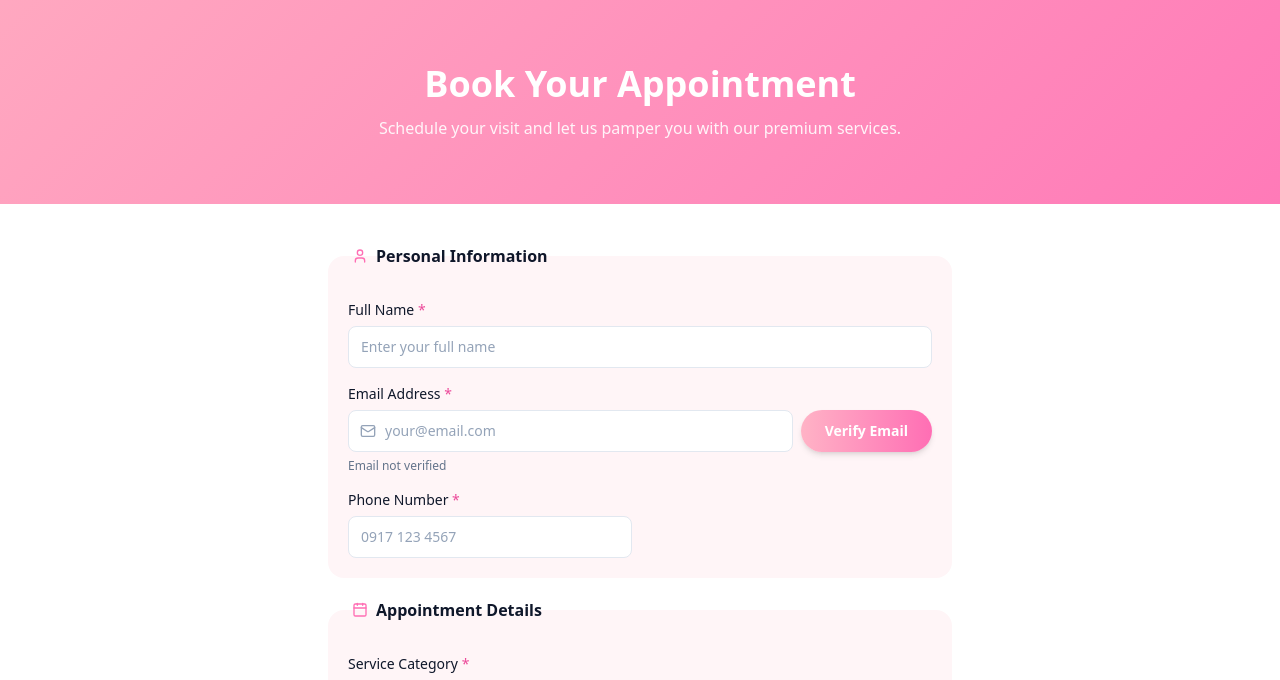
Scenario: requesting and entering the code › too many attempts shows "Verification failed"
Type "jane@example.com" into the field labelled "Email Address *" at (570, 431), box [348,410,793,452]
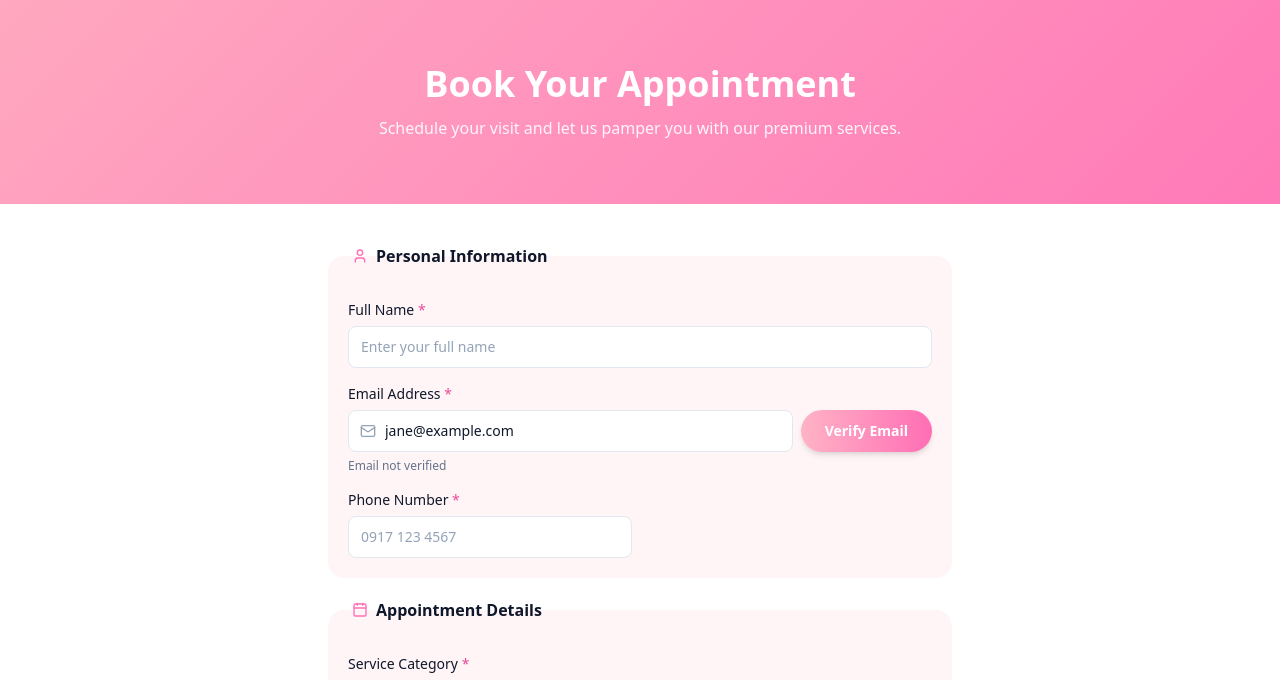
Click the button "Verify Email" at (866, 431), box [801,410,932,452]
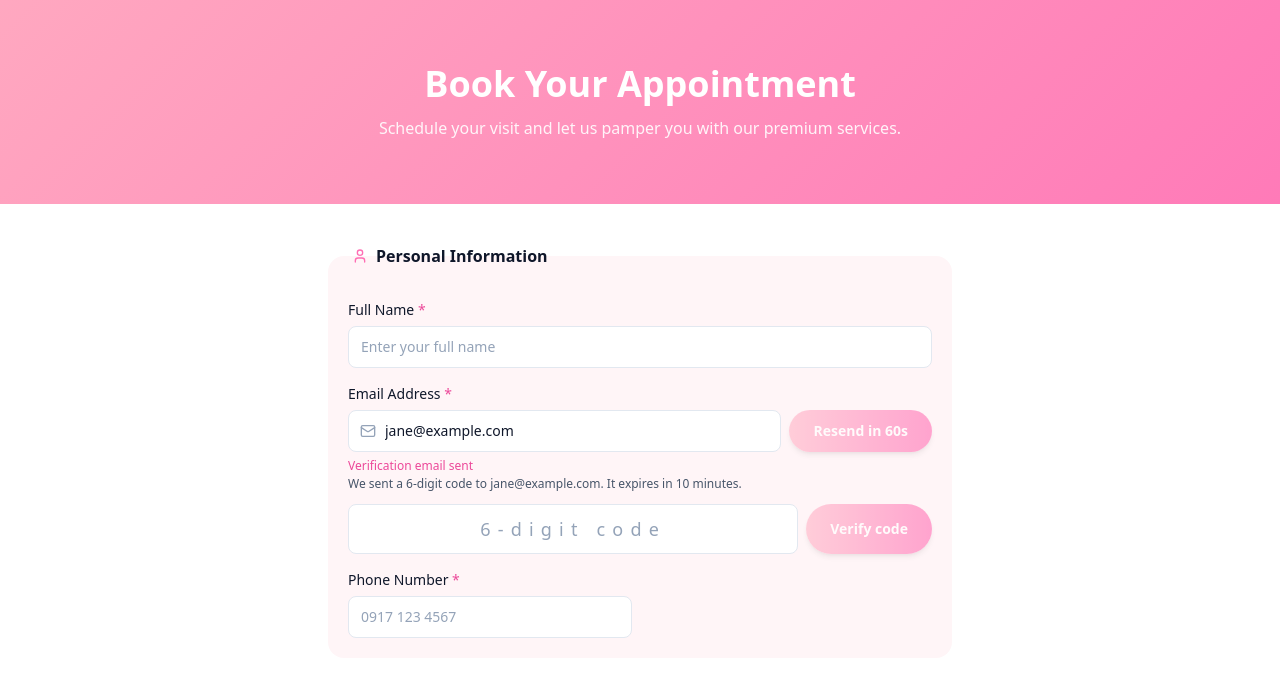
Type "123456" into the field named "6-digit verification code" at (573, 529), box [348,504,798,554]
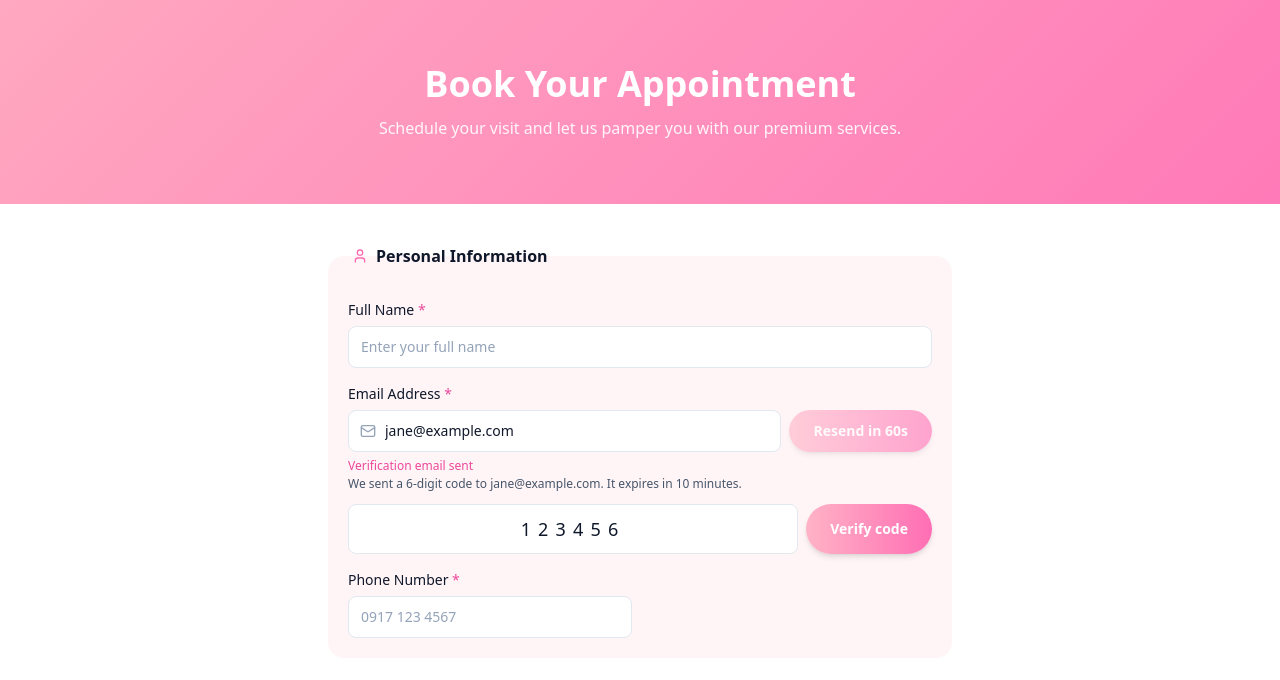
Click the button "Verify code" at (869, 529), box [806,504,932,554]
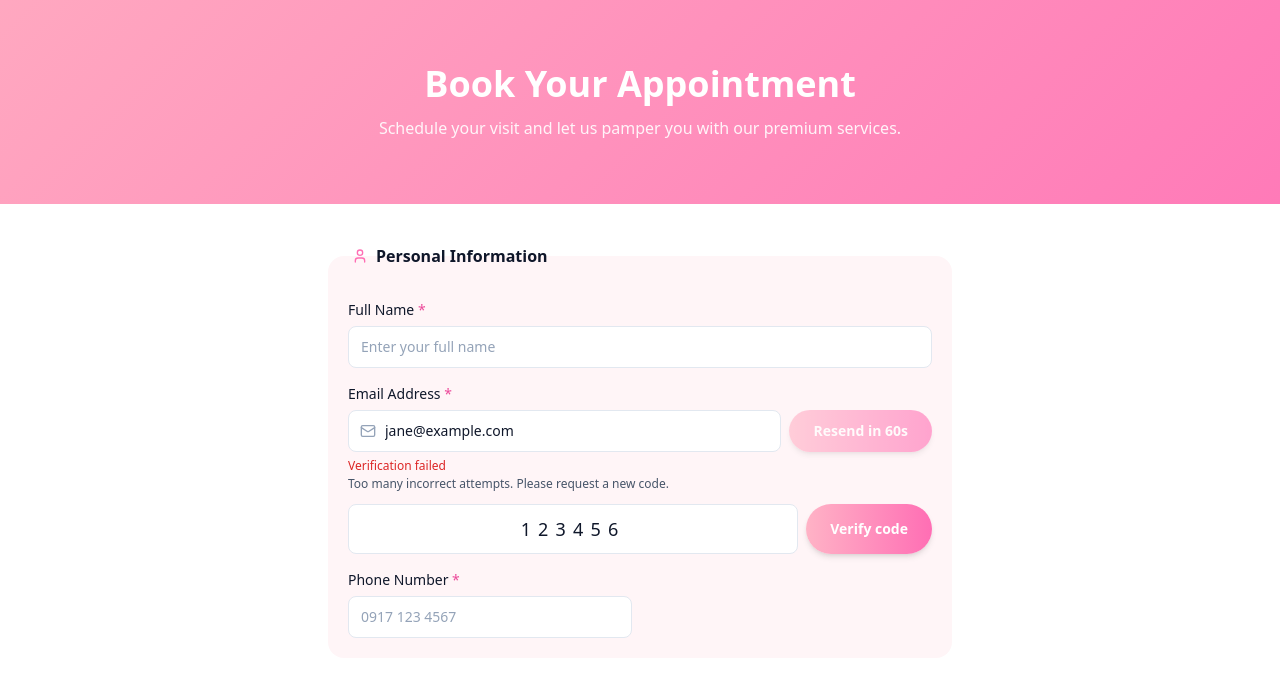
Result: the message with test id "email-status" reads "Verification failed" at [348,457,446,474]
Result: the text "Too many incorrect attempts. Please request a new code." is shown at [348,475,669,492]
